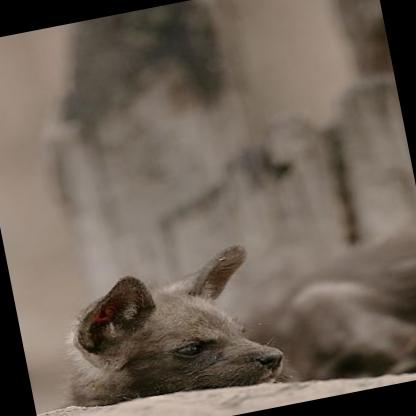African_hunting_dog: (39, 239, 286, 416)
